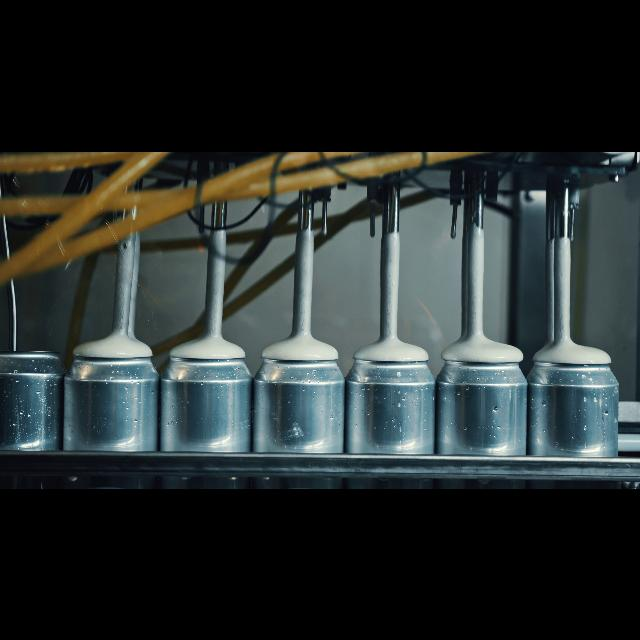empty: (1, 342, 64, 488)
full: (254, 324, 344, 488), (160, 332, 248, 488), (69, 330, 155, 488), (438, 330, 524, 488), (534, 338, 622, 488), (351, 329, 432, 488)
